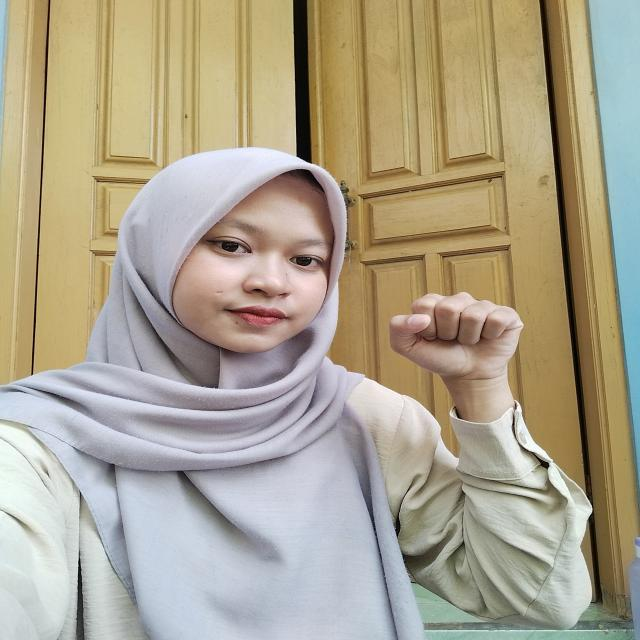baik: (365, 282, 550, 470)
